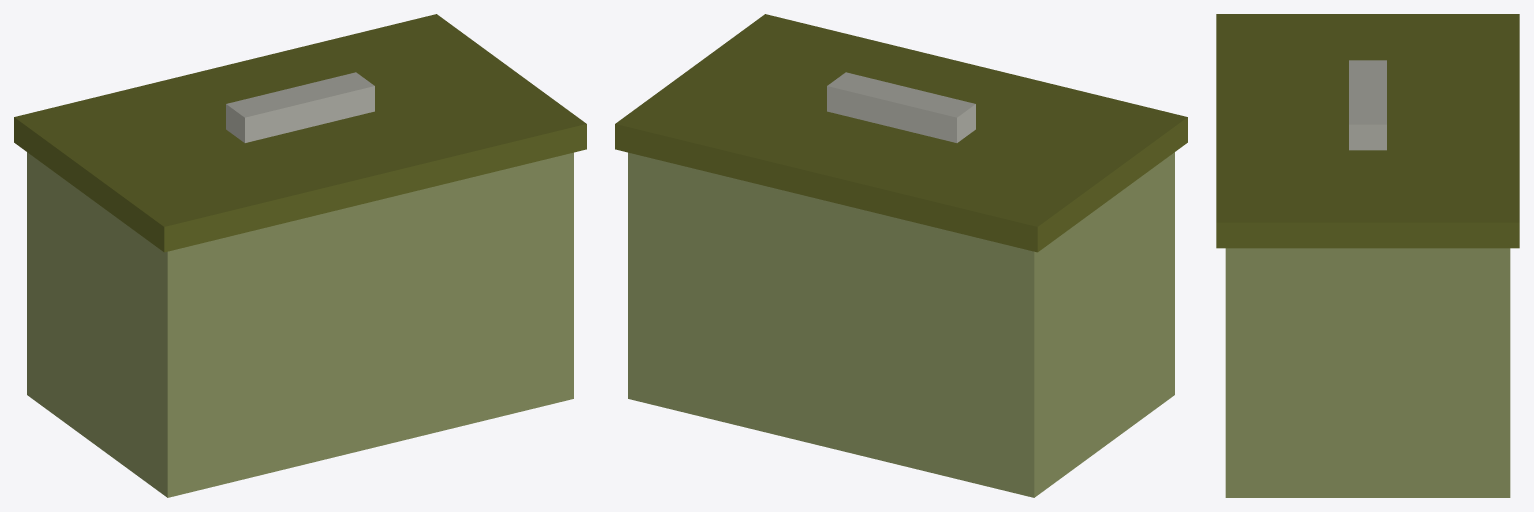
Rendered from SM_CajasMunicion_v0_Cerrada_LOD0.fbx.
The picture shows the model from 3 angles, left to right: view 1: azimuth 30°, elevation 25°; view 2: azimuth 150°, elevation 25°; view 3: azimuth 270°, elevation 25°; orthographic projection.
Parts seen in each view (by area): view 1: SM_farp_betera_v20_LOD0; view 2: SM_farp_betera_v20_LOD0; view 3: SM_farp_betera_v20_LOD0.
Boxes of the visible parts, x1,y1,x2,y2 form: SM_farp_betera_v20_LOD0: [14, 14, 586, 497]; SM_farp_betera_v20_LOD0: [615, 14, 1187, 497]; SM_farp_betera_v20_LOD0: [1216, 14, 1519, 497].
Size of the model in its own units: 0.52 by 0.355 by 0.32.
